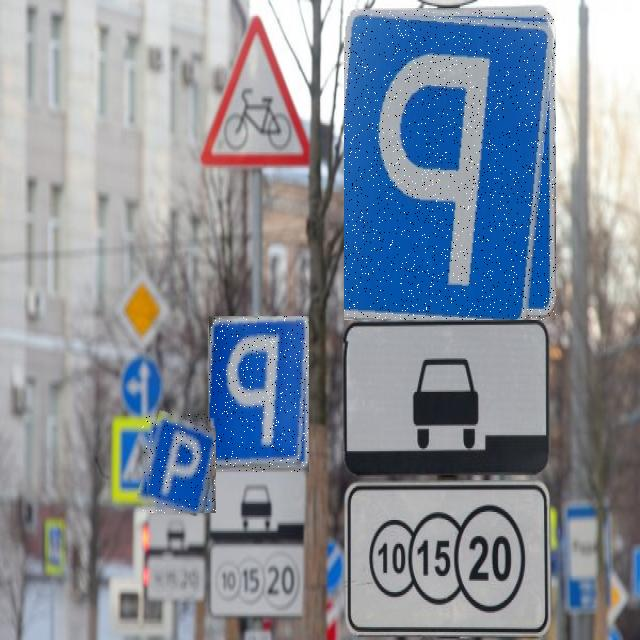parking: (344, 10, 556, 320), (209, 316, 309, 472), (142, 414, 216, 513)
